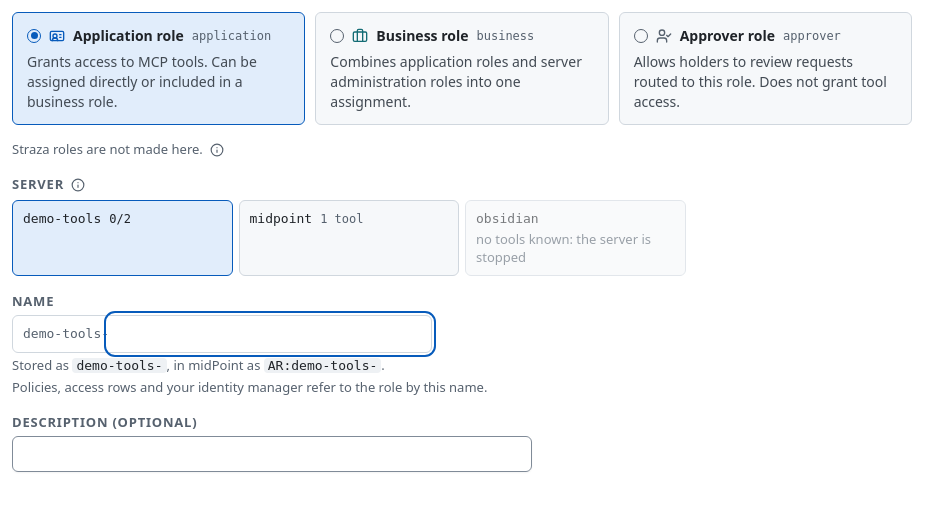
Test case: the first step of an application role › fixes the picked server's prefix, keeps the typed word on a switch and previews the stored name
The width and height of the screenshot is (929, 513).
Type "Read Only" into the field named "role name suffix" at (270, 334), box 109,316 -> 431,352
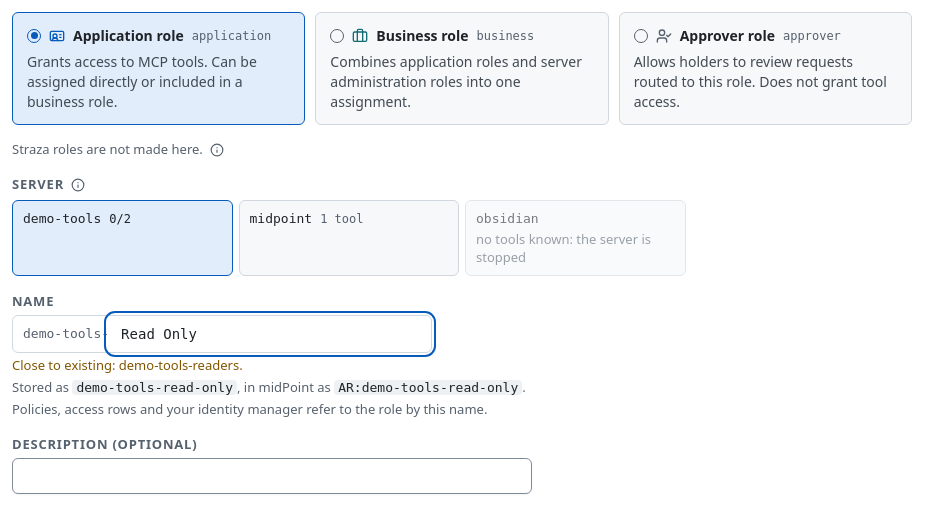
Result: the element that starts with "Stored as" reads "Stored as demo-tools-read-only, in midPoint as AR:demo-tools-read-only." at 12,378 -> 526,396
Click the radio button with aria-label "server midpoint" at (349, 238), box 238,200 -> 459,276
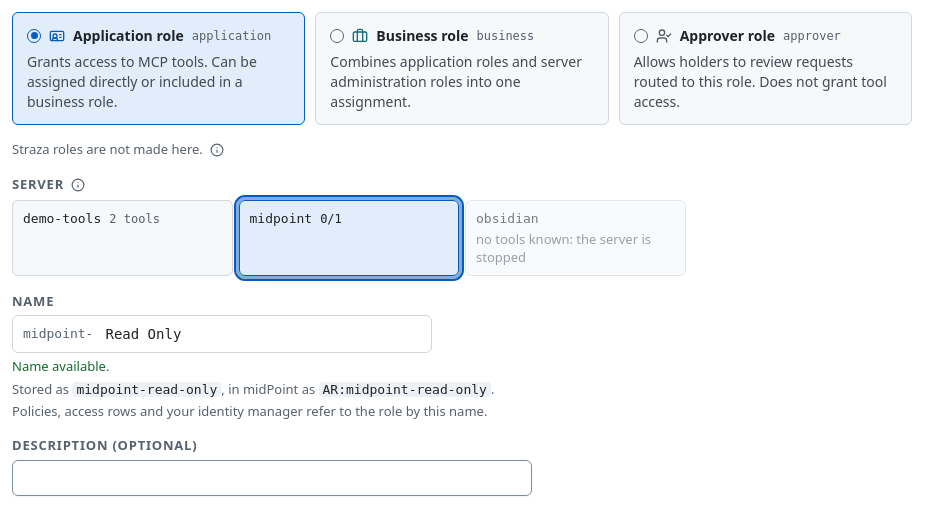
Result: the text "midpoint-" is shown at 13,324 -> 94,344
Result: the element that starts with "Stored as" reads "Stored as midpoint-read-only, in midPoint as AR:midpoint-read-only." at 12,380 -> 494,398
